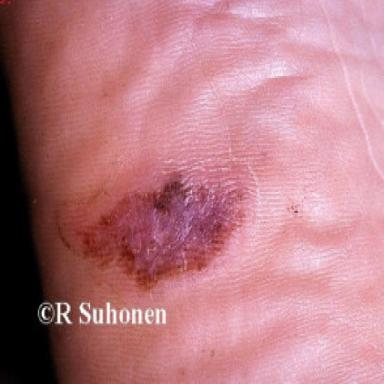Melanoma: (79, 166, 250, 292)
